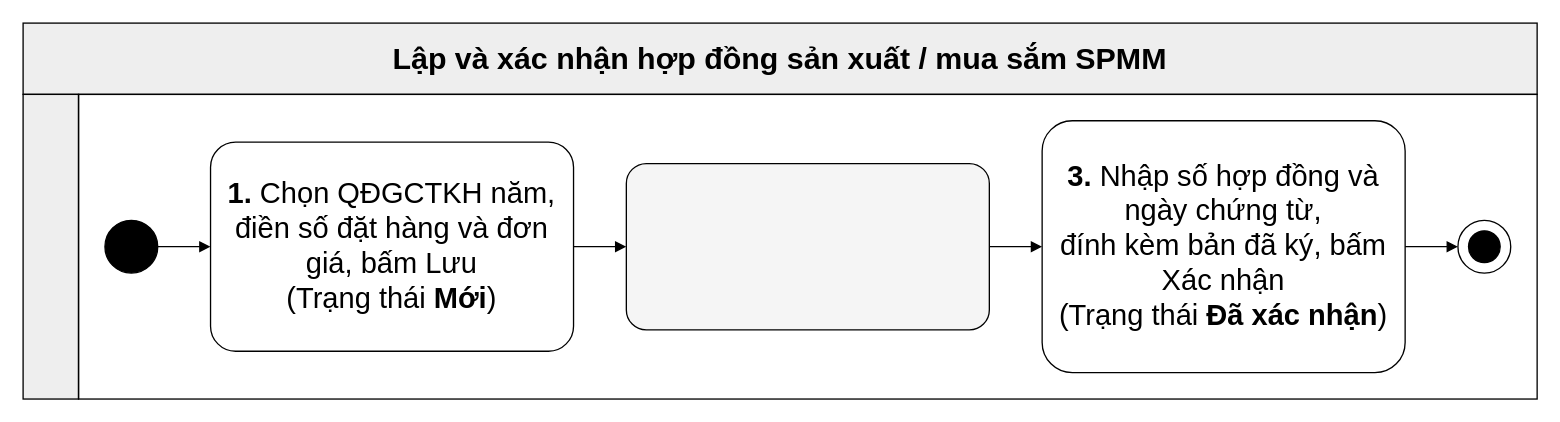
The diagram is 1560 pixels wide and 422 high, and some of its shapes have lost their labels. The box of each missing label's shape, as (x1, y1, x2, y2) in pixels:
Cục QLKTNVMM: (22, 93, 79, 399)
«ngoài phạm vi QLSPMM» 2. Đàm phán và ký hợp đồng với nhà máy / NCC: (625, 162, 989, 330)
